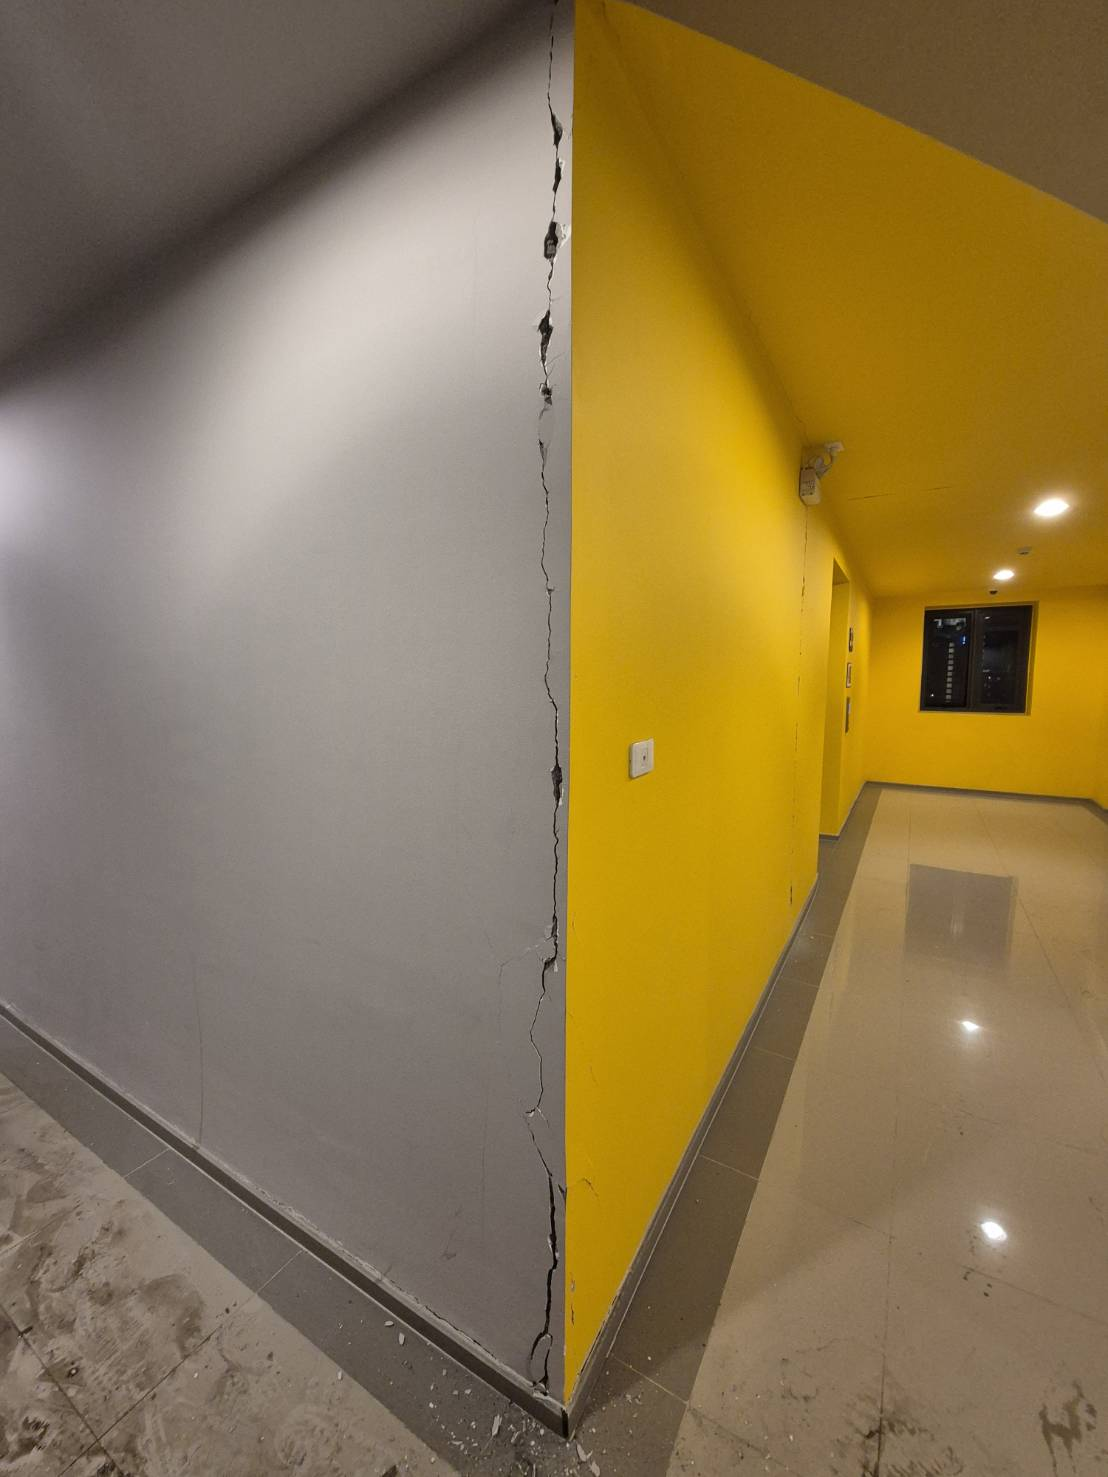Medium: (467, 61, 567, 1105)
